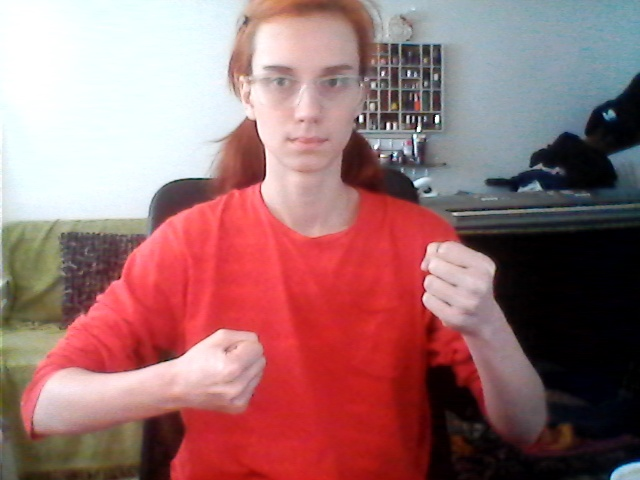auto: (180, 231, 500, 422)
